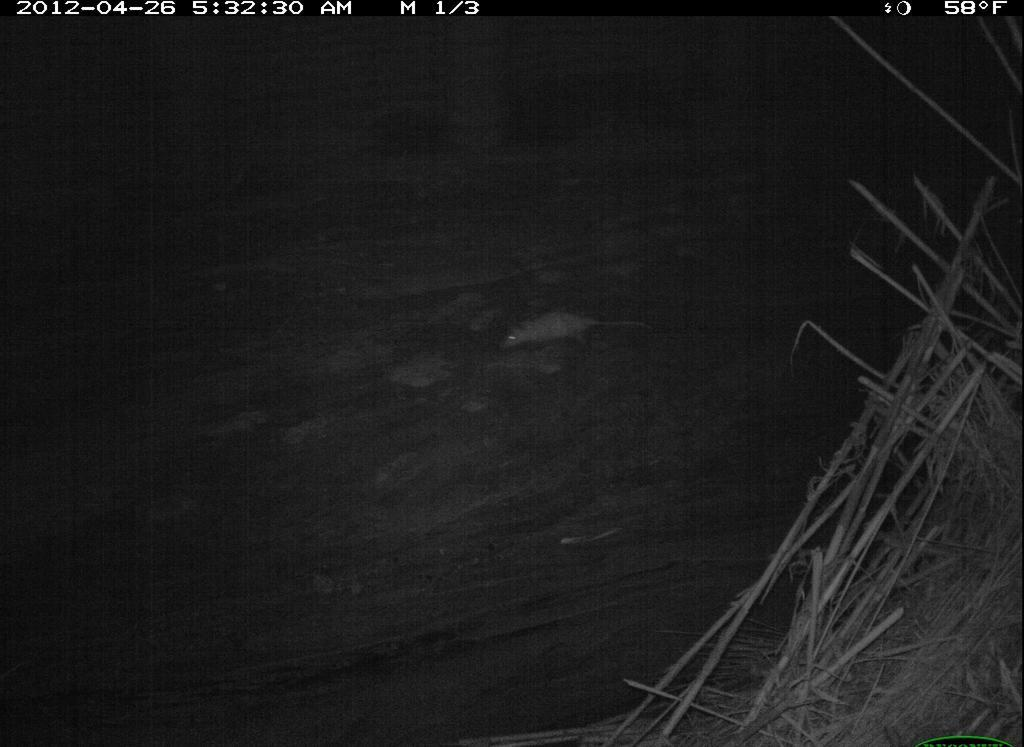opossum: (492, 304, 658, 360)
